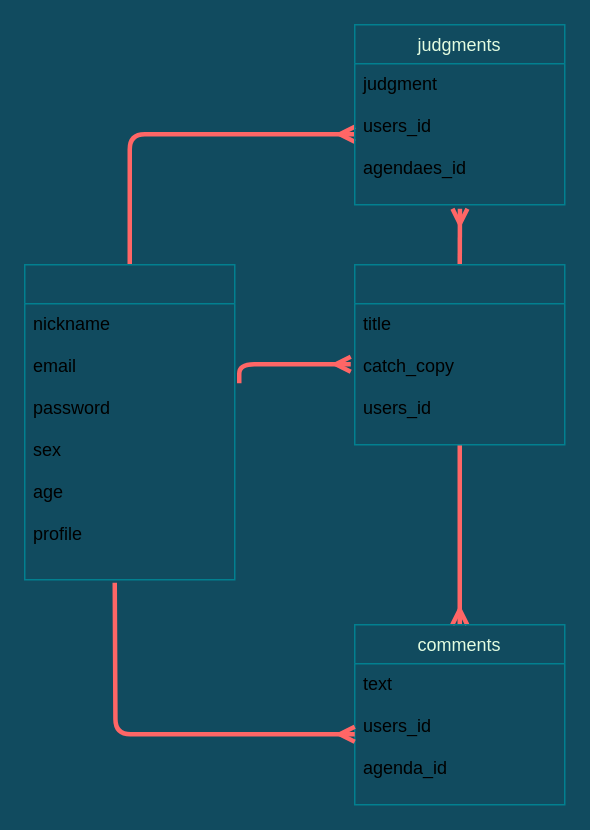
This 590x830 diagram has some shape labels left out. Each missing label, with the box of its shape:
agenda: (353, 263, 565, 445)
users: (23, 263, 235, 580)
